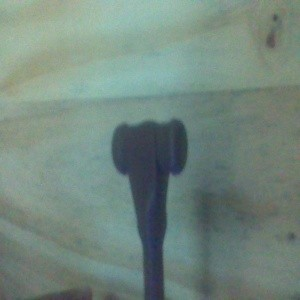palu: (111, 117, 189, 300)
